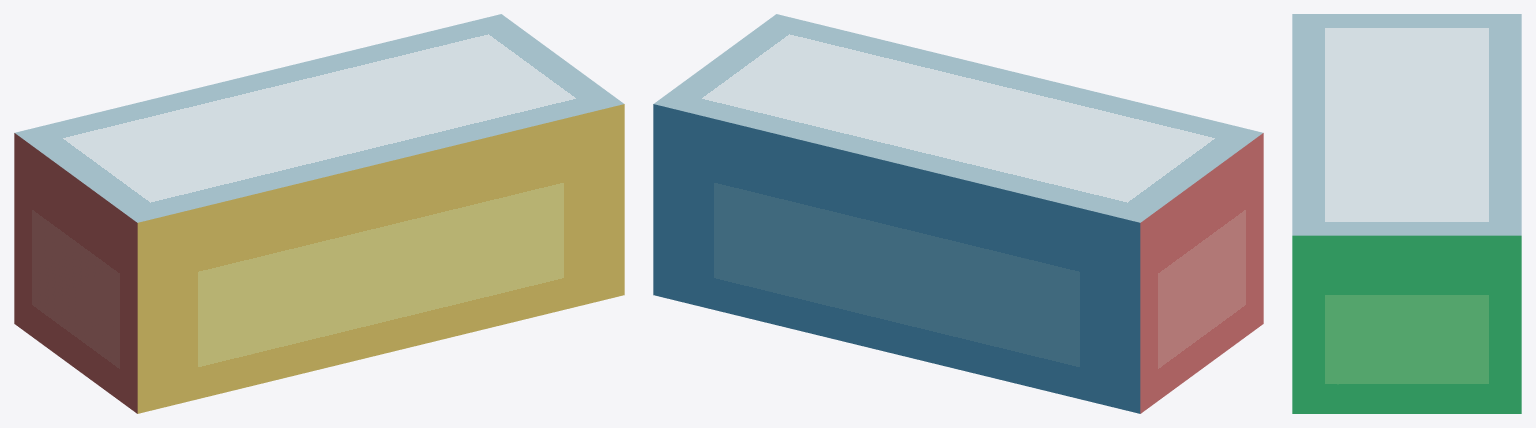
Rendered from Large Loot Box.fbx.
The picture shows the model from 3 angles, left to right: view 1: azimuth 30°, elevation 25°; view 2: azimuth 150°, elevation 25°; view 3: azimuth 270°, elevation 25°; orthographic projection. The views are drawn at different scales.
Parts seen in each view (by area): view 1: Lid, cube, cube_2, cube_3; view 2: Lid, cube_1, cube_2, cube_3; view 3: Lid, cube_3.
Boxes of the visible parts, x1,y1,x2,y2 form: Lid: [14, 14, 624, 254]; cube: [168, 143, 593, 406]; cube_2: [14, 165, 167, 413]; cube_3: [594, 136, 624, 302]; Lid: [653, 14, 1263, 254]; cube_1: [684, 143, 1109, 406]; cube_2: [1110, 165, 1263, 413]; cube_3: [653, 136, 683, 302]; Lid: [1292, 14, 1521, 265]; cube_3: [1292, 265, 1521, 413].
Size of the model in its own units: 100 by 37.5 by 43.75.
1 material, 1 textured.
